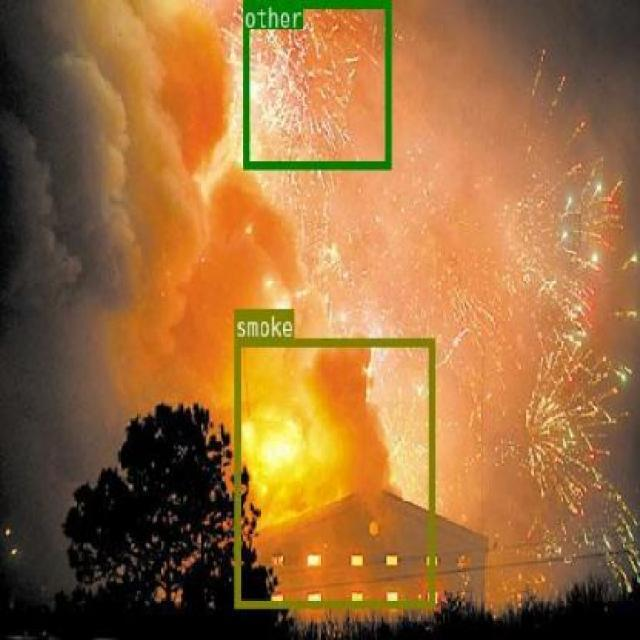smoke: (234, 336, 433, 607)
